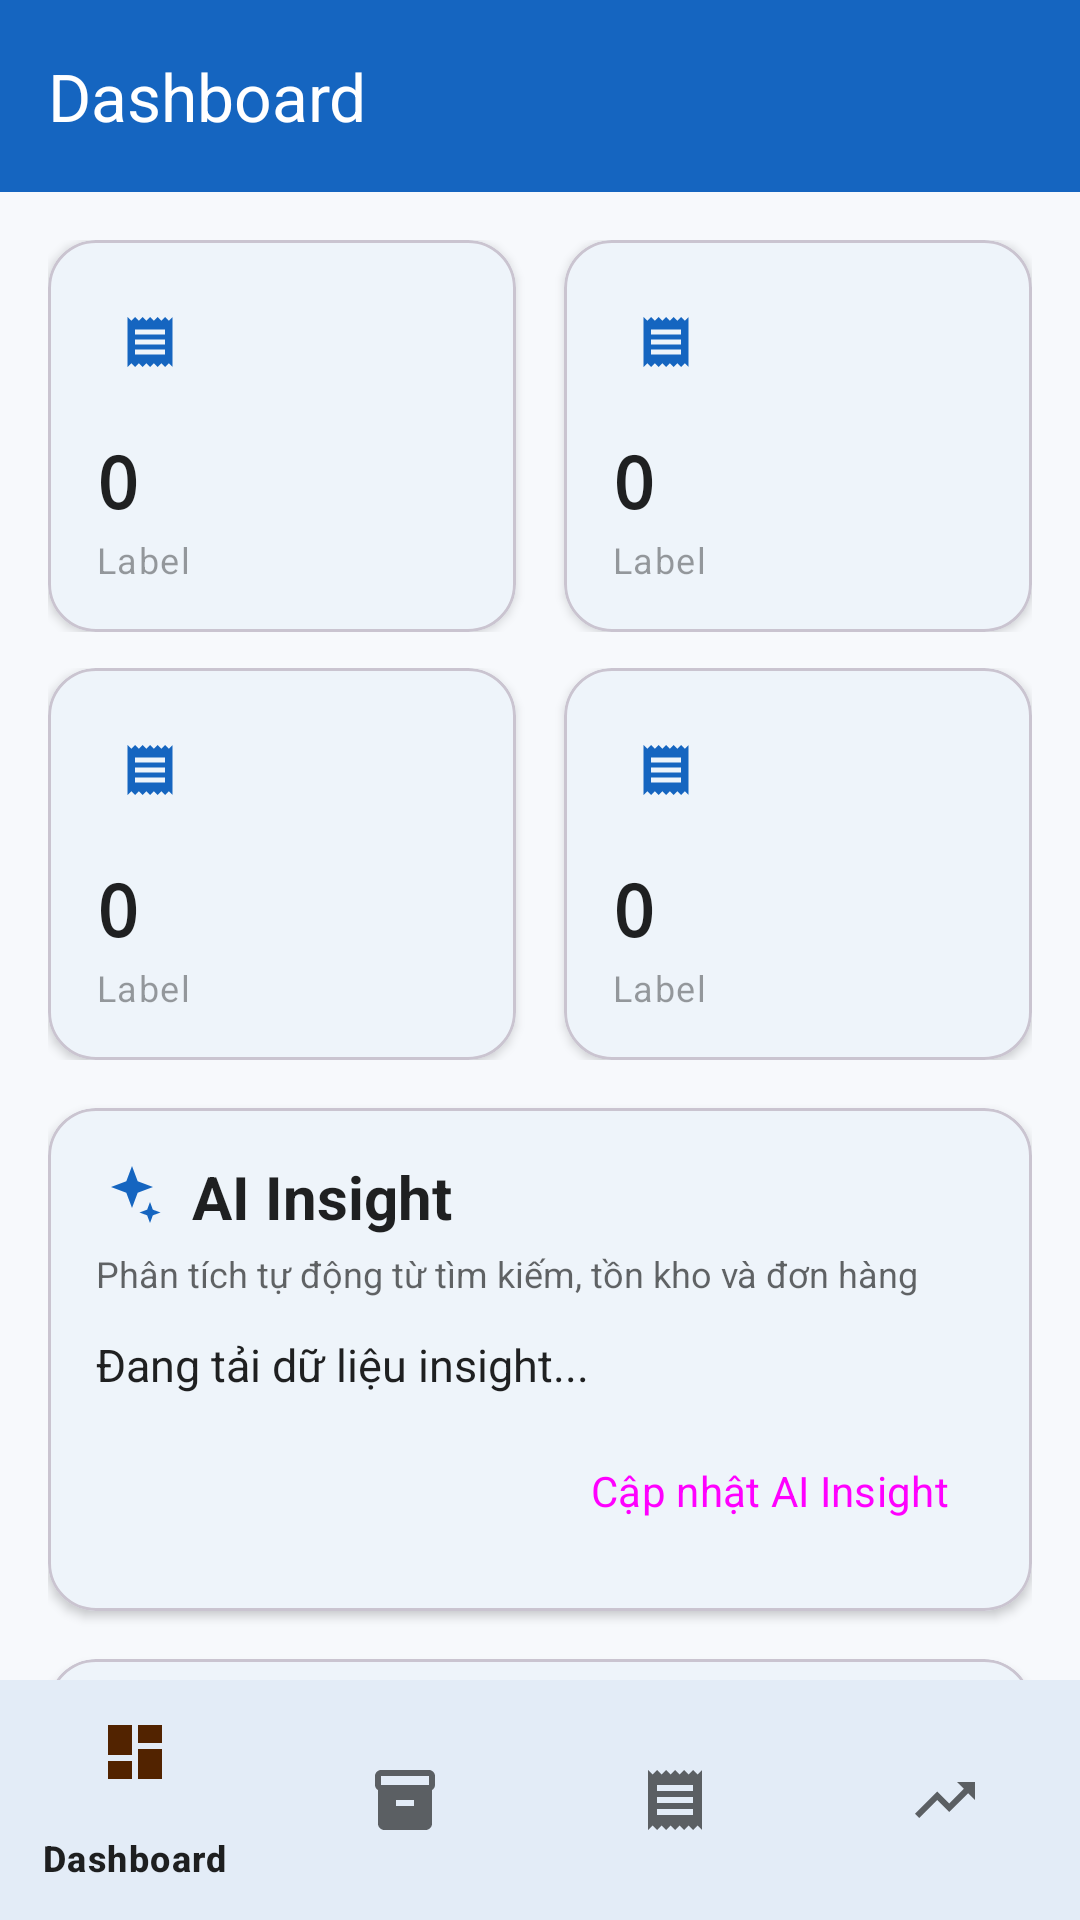

Named icons in this screenshot (1080 x 1920) and their bounding boxes, (x1, y1, x2, y2):
ai sparkle: (111, 1166, 161, 1223)
receipt: (127, 317, 173, 367), (643, 317, 689, 367), (127, 745, 173, 795), (643, 745, 689, 795)
